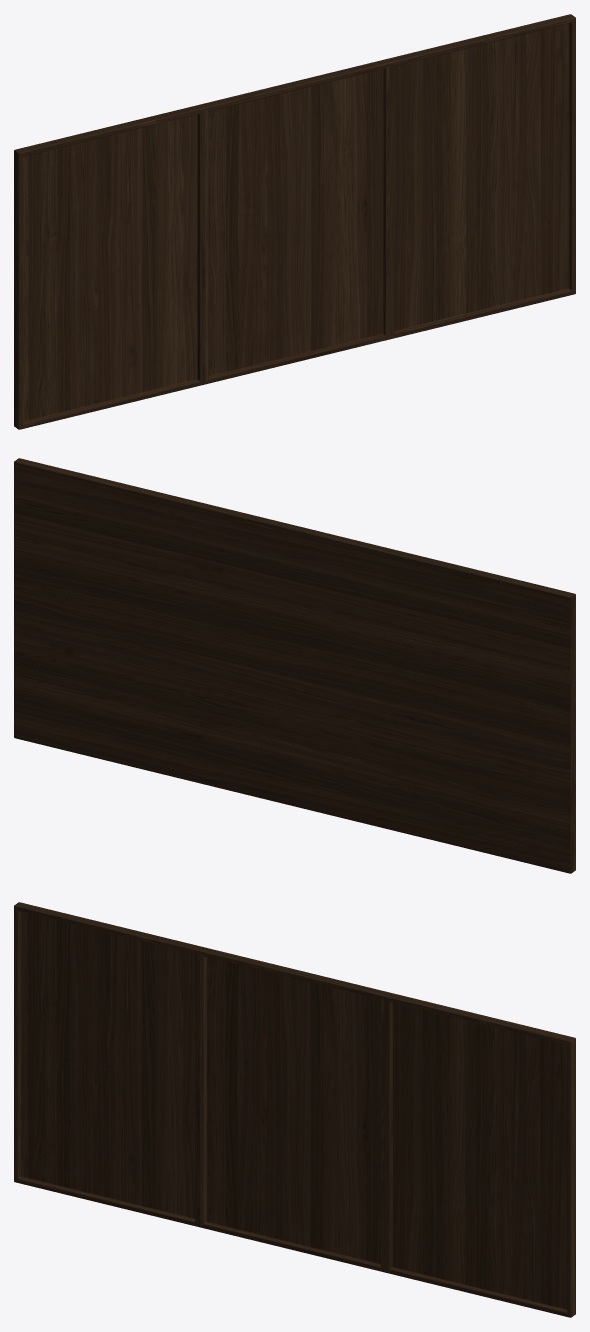
The picture shows the model from 3 angles, top to bottom: view 1: azimuth 30°, elevation 25°; view 2: azimuth 150°, elevation 25°; view 3: azimuth 330°, elevation 25°; orthographic projection.
Visible parts, largest first — view 1: headboard_pannels; view 2: headboard_pannels; view 3: headboard_pannels.
Boxes of the visible parts, bbox=[...] form: headboard_pannels: bbox=[14, 14, 575, 429]; headboard_pannels: bbox=[14, 458, 575, 873]; headboard_pannels: bbox=[14, 902, 575, 1317].
Size of the model in its own units: 1.82 by 0.8654 by 0.0293.
1 material, 1 textured.
